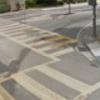crosswalks: (1, 59, 100, 100), (0, 19, 77, 60)
